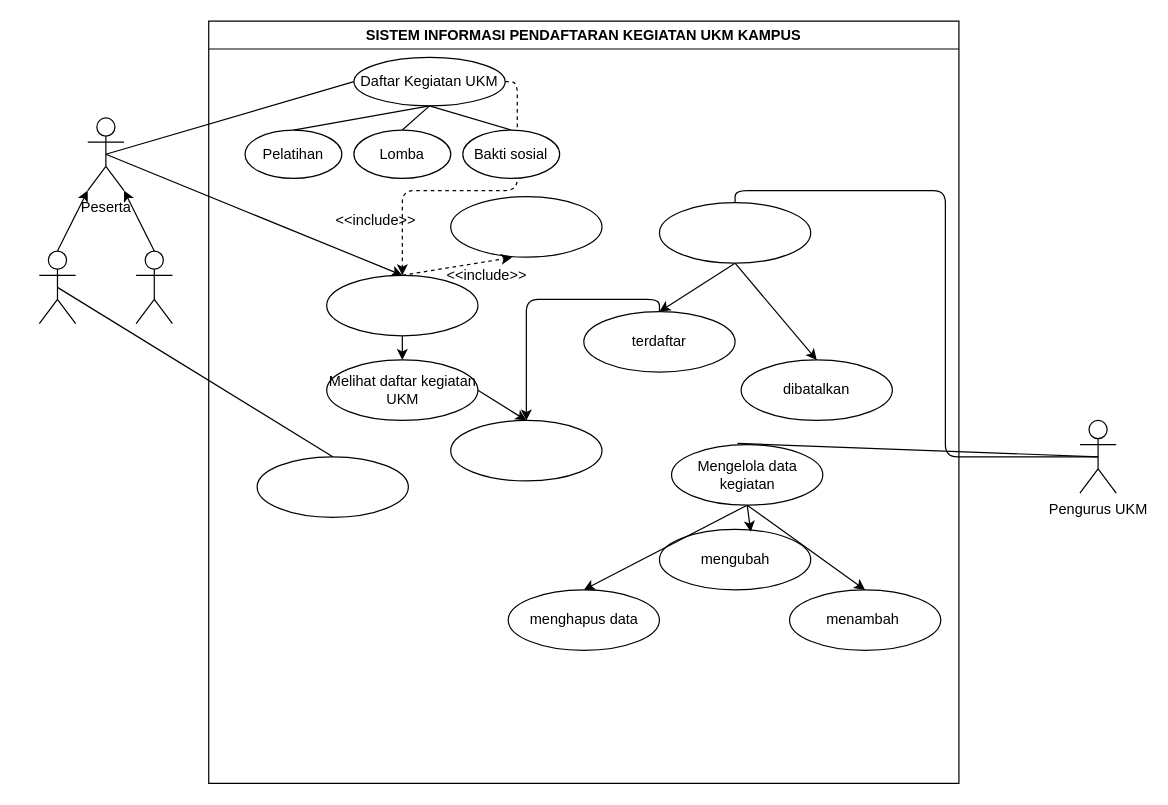
Some shapes in this 1168 by 805 pixel diagram are drawn without their labels. The shapes that lost their labels are listed below. From the top down, each one's box as (x1, y1, x2, y2) in pixels, then its label:
(450, 195, 602, 257): memeriksa kuota
(658, 201, 811, 263): status pendaftaran
(38, 250, 76, 324): Mahasiswa
(135, 250, 172, 324): Dosen
(325, 274, 478, 336): Pendaftaran kegiatan UKM
(450, 419, 602, 481): mencetak kartu peserta
(256, 456, 408, 517): mengusulkan kegiatan baru
